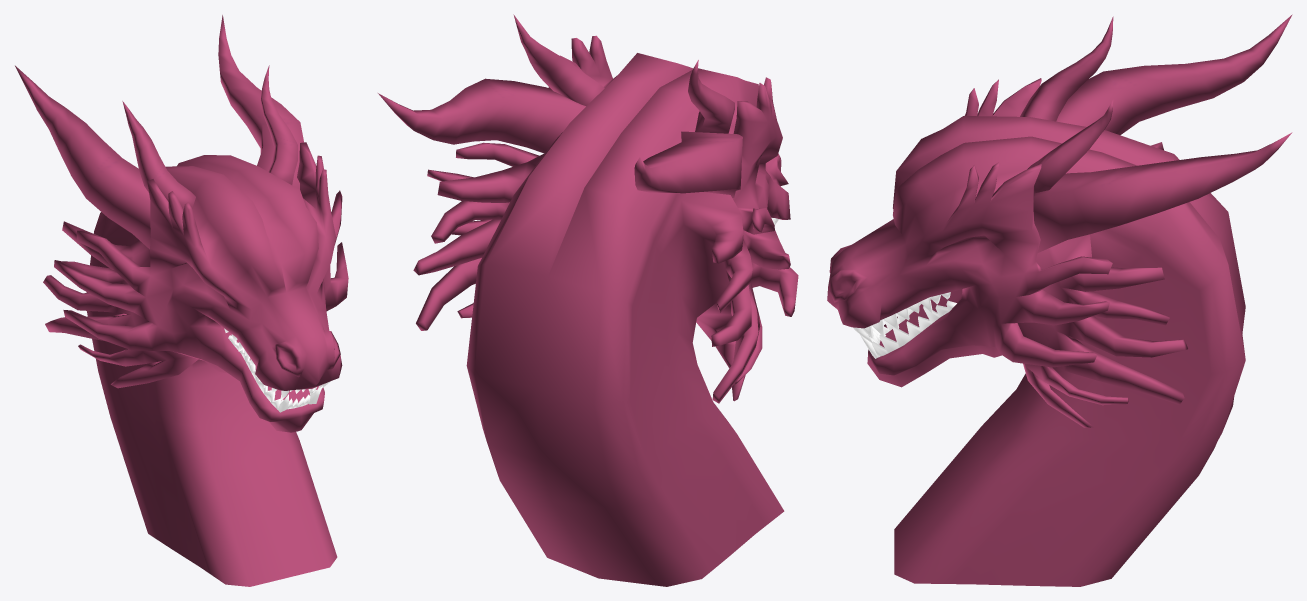
File: dragon's_head.glb
3 views of the same model, side by side, from view 1: azimuth 30°, elevation 25°; view 2: azimuth 150°, elevation 25°; view 3: azimuth 270°, elevation 25° (orthographic). The views are drawn at different scales.
Parts seen in each view (by area): view 1: Dragon's Head; view 2: Dragon's Head; view 3: Dragon's Head.
Boxes of the visible parts, left/top/right/bottom form: Dragon's Head: left=15, top=15, right=348, bottom=586; Dragon's Head: left=378, top=14, right=798, bottom=586; Dragon's Head: left=827, top=14, right=1292, bottom=586.
Size of what is drawn, in the model's own units: 5.6 by 7.9 by 6.74.
2 materials, 2 textured.
